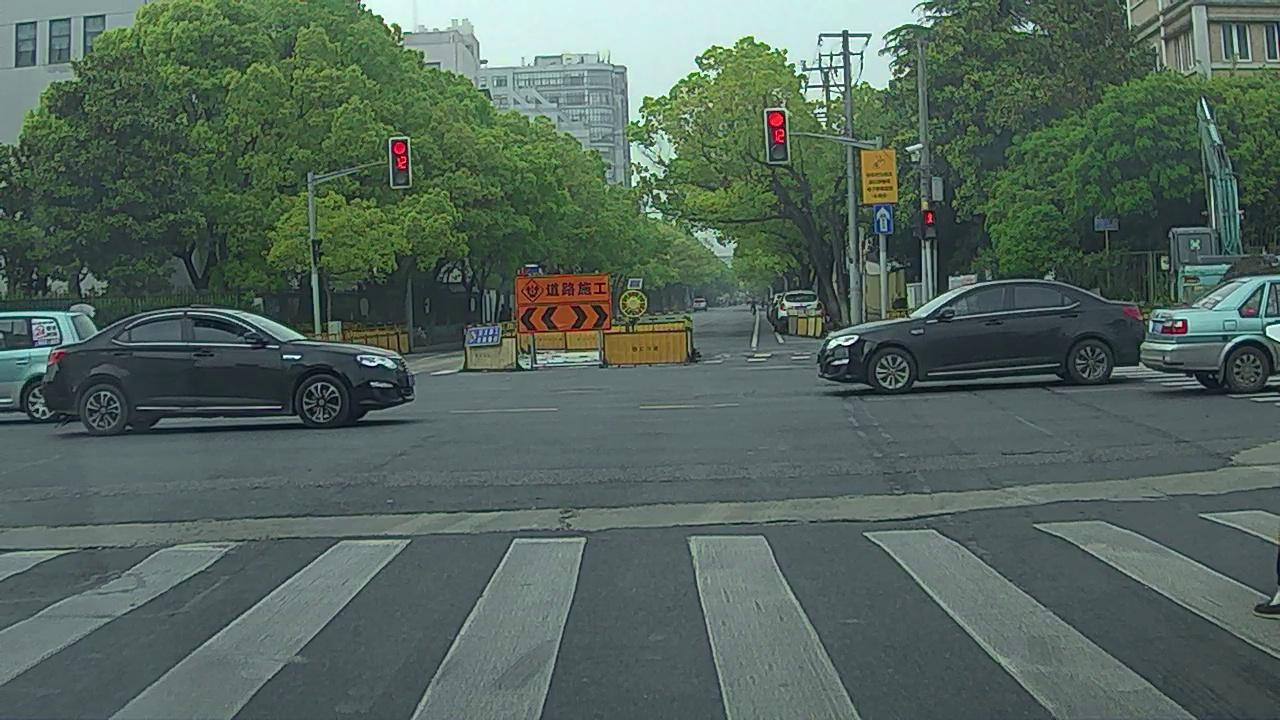traffic_light: (766, 110, 789, 162), (389, 138, 410, 185)
